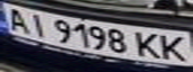1: (69, 20, 90, 47)
8: (106, 26, 130, 55)
9: (48, 16, 75, 44), (87, 24, 109, 51)
A: (3, 6, 33, 34)
I: (24, 10, 51, 38)
K: (157, 33, 193, 63), (133, 29, 166, 61)
